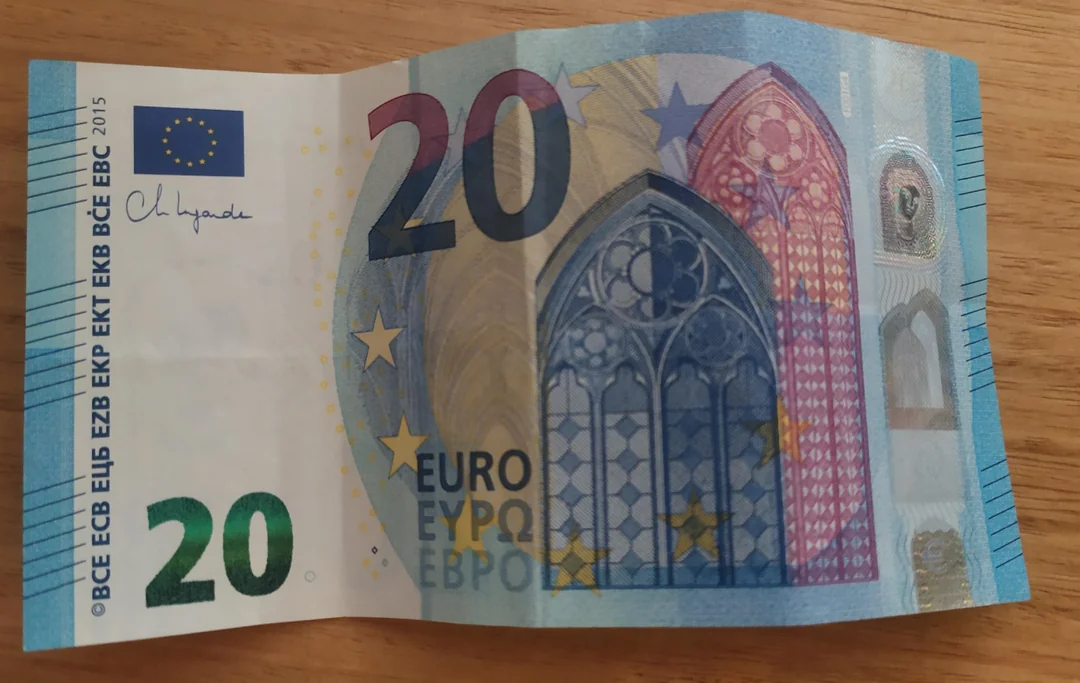Nota de 20€: (7, 3, 1037, 653)
